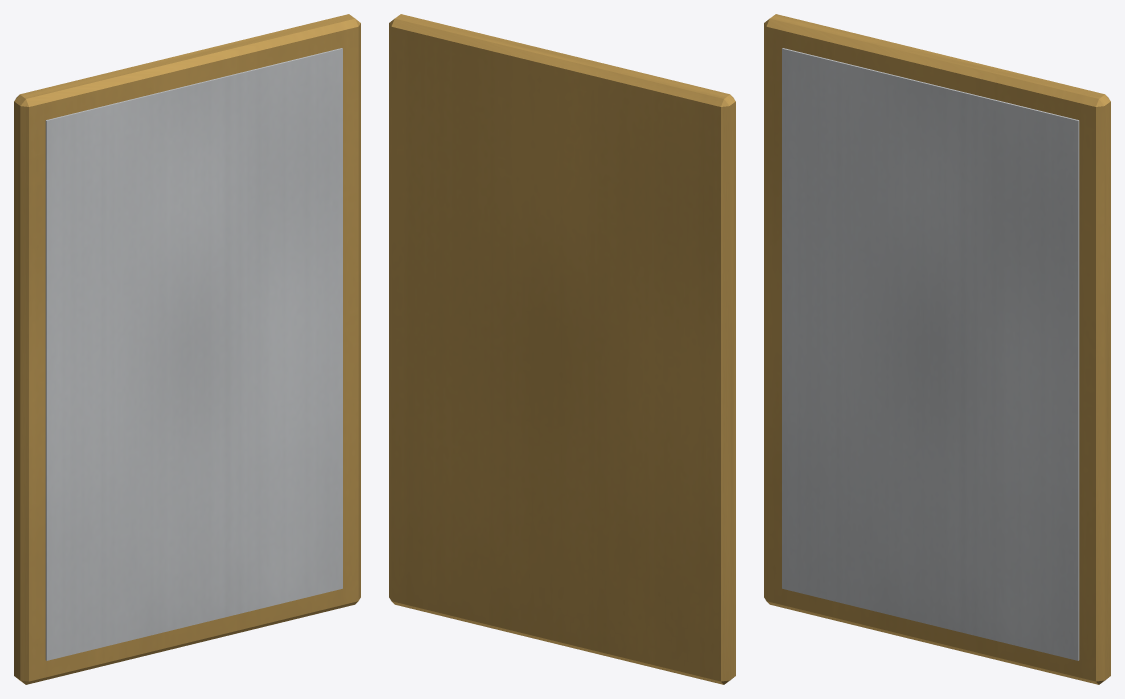
File: OB_Lustro.fbx
3 views of the same model, side by side, from view 1: azimuth 30°, elevation 25°; view 2: azimuth 150°, elevation 25°; view 3: azimuth 330°, elevation 25° (orthographic).
Visible parts, largest first — view 1: Lustro; view 2: Lustro; view 3: Lustro.
Part boxes in pixels (x1,y1,x2,y2): Lustro: (14, 14, 360, 684); Lustro: (389, 14, 735, 684); Lustro: (764, 14, 1110, 684).
Bounding box in the file's own units: 0.62 × 1.02 × 0.043.
